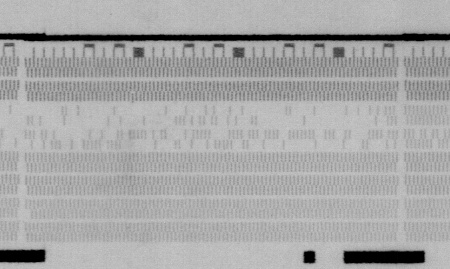Broken hole: (2, 99, 397, 153), (413, 126, 448, 149)
Oblique printing: (127, 91, 139, 105)
